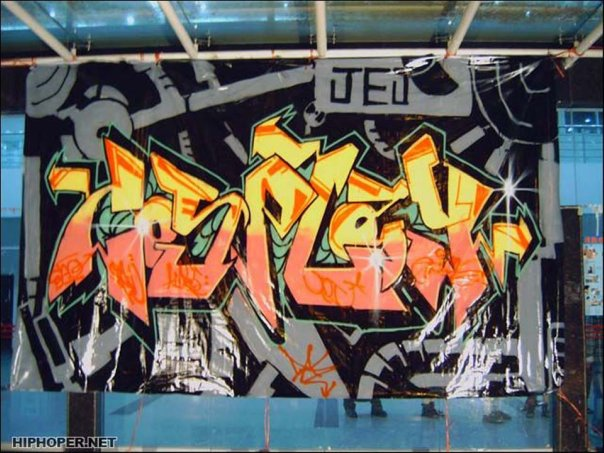graffity: (25, 65, 558, 390)
